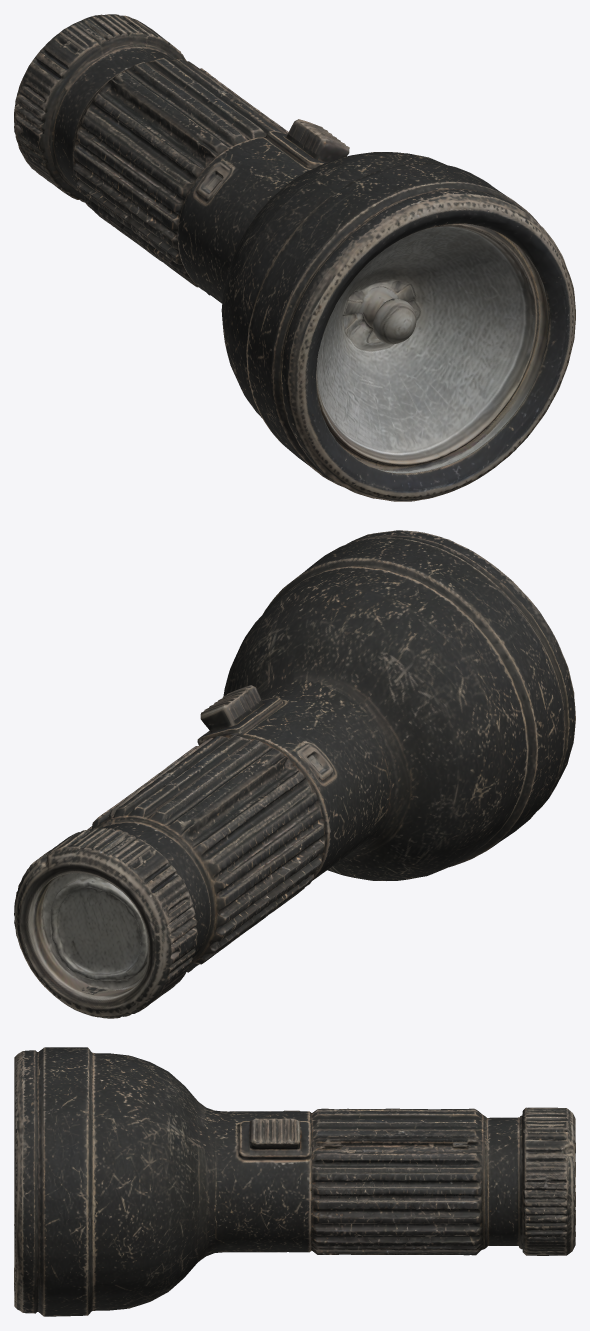
File: SpareFlashlight.fbx
The picture shows the model from 3 angles, top to bottom: view 1: azimuth 30°, elevation 25°; view 2: azimuth 150°, elevation 25°; view 3: azimuth 270°, elevation 25°; orthographic projection. The views are drawn at different scales.
Visible parts, largest first — view 1: texture_mapping; view 2: texture_mapping; view 3: texture_mapping.
Boxes of the visible parts, bbox=[...] form: texture_mapping: bbox=[14, 14, 575, 501]; texture_mapping: bbox=[14, 530, 575, 1018]; texture_mapping: bbox=[14, 1047, 575, 1316].
Size of the model in its own units: 0.4833 by 1 by 0.4806.
1 material, 1 textured.
